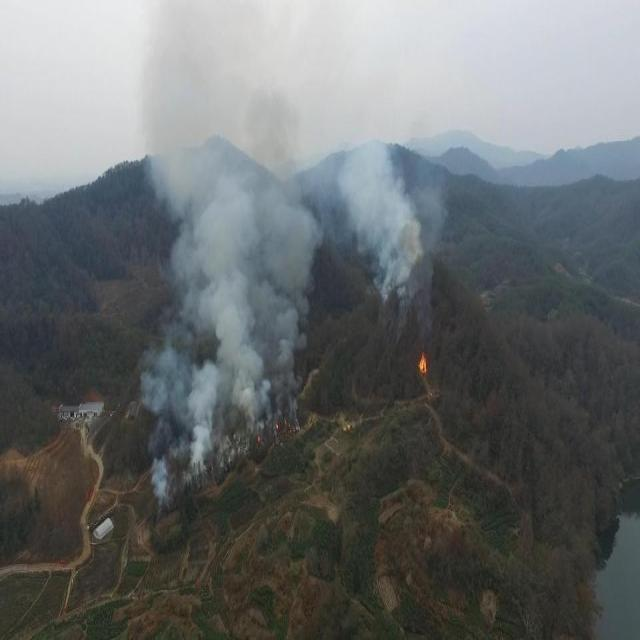Fire: (418, 350, 428, 376)
Smoke: (138, 1, 450, 507)
